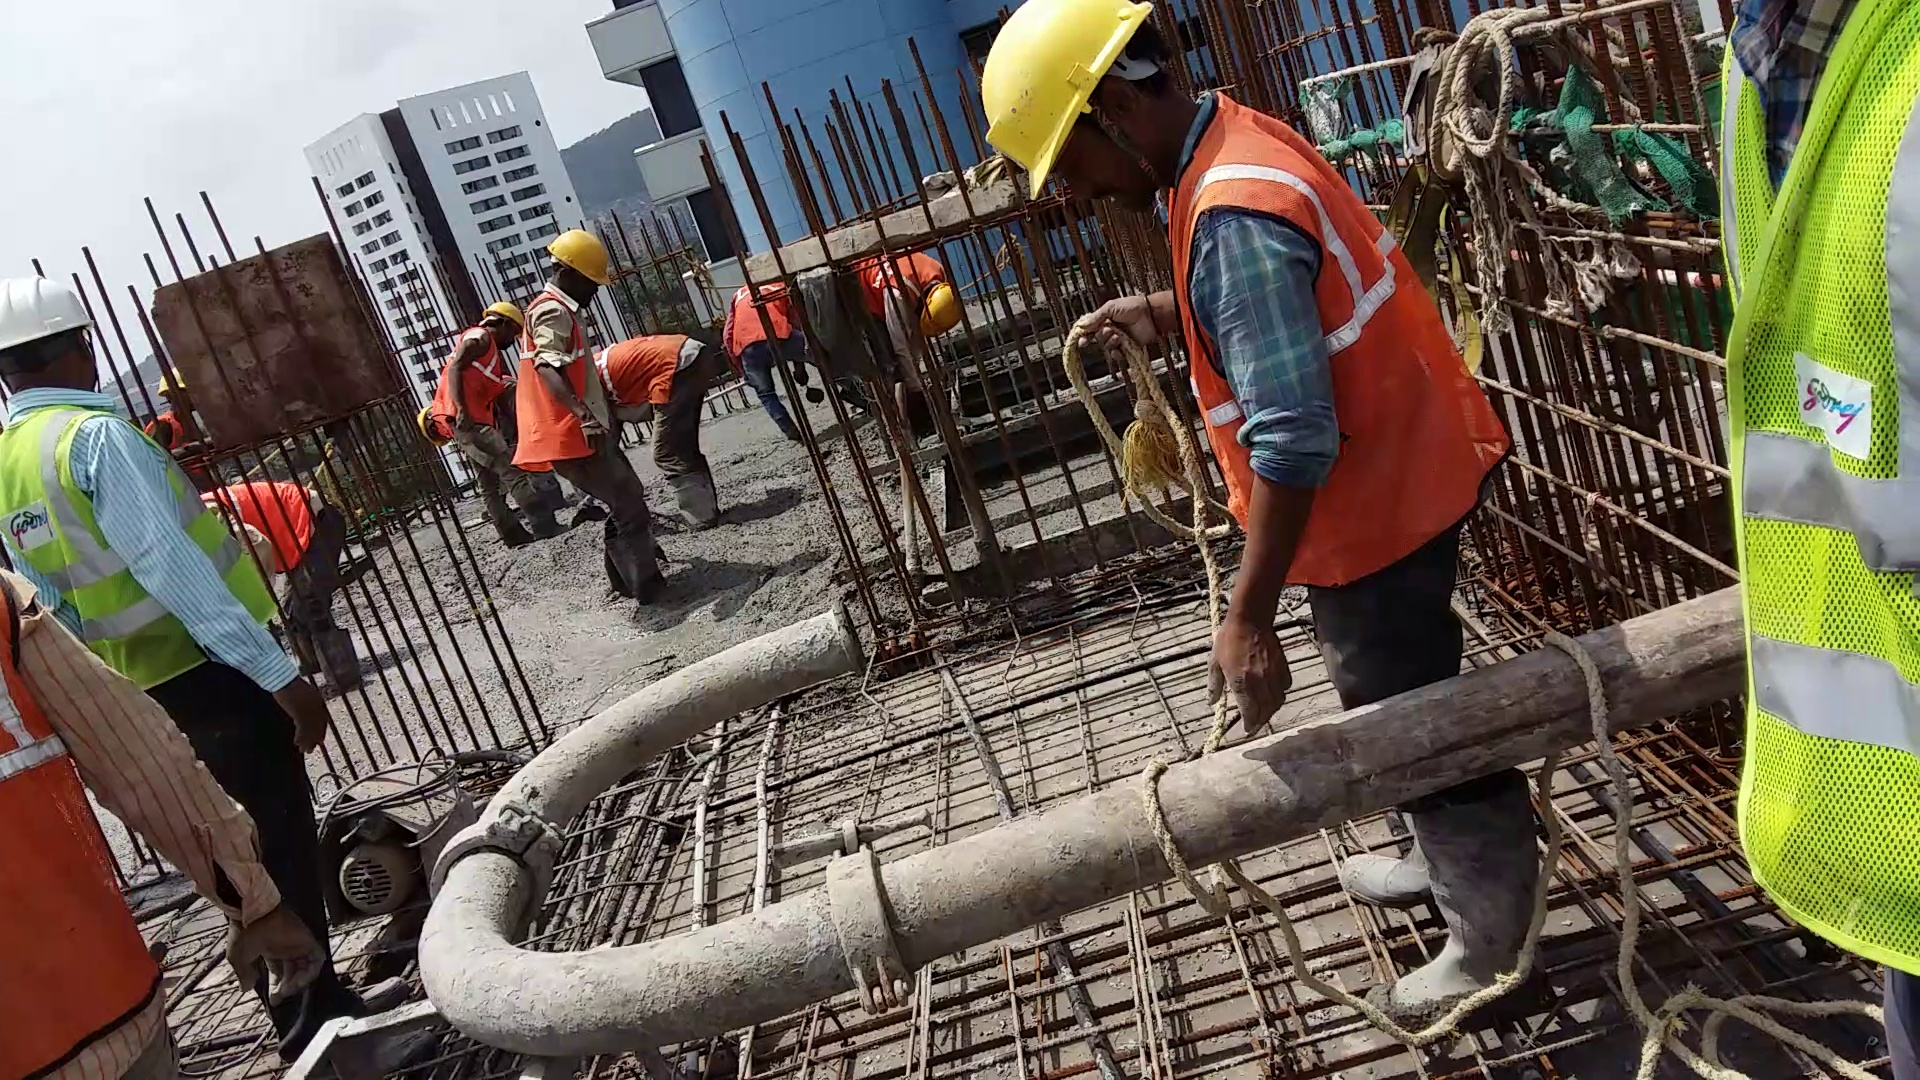SAFE: (981, 1, 1466, 584), (5, 276, 137, 700), (521, 228, 616, 475), (442, 287, 516, 448)
